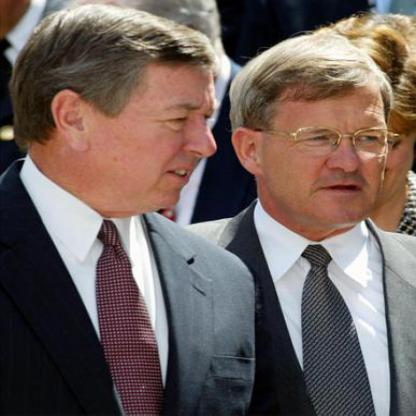face: (82, 33, 227, 216), (256, 50, 391, 231)
